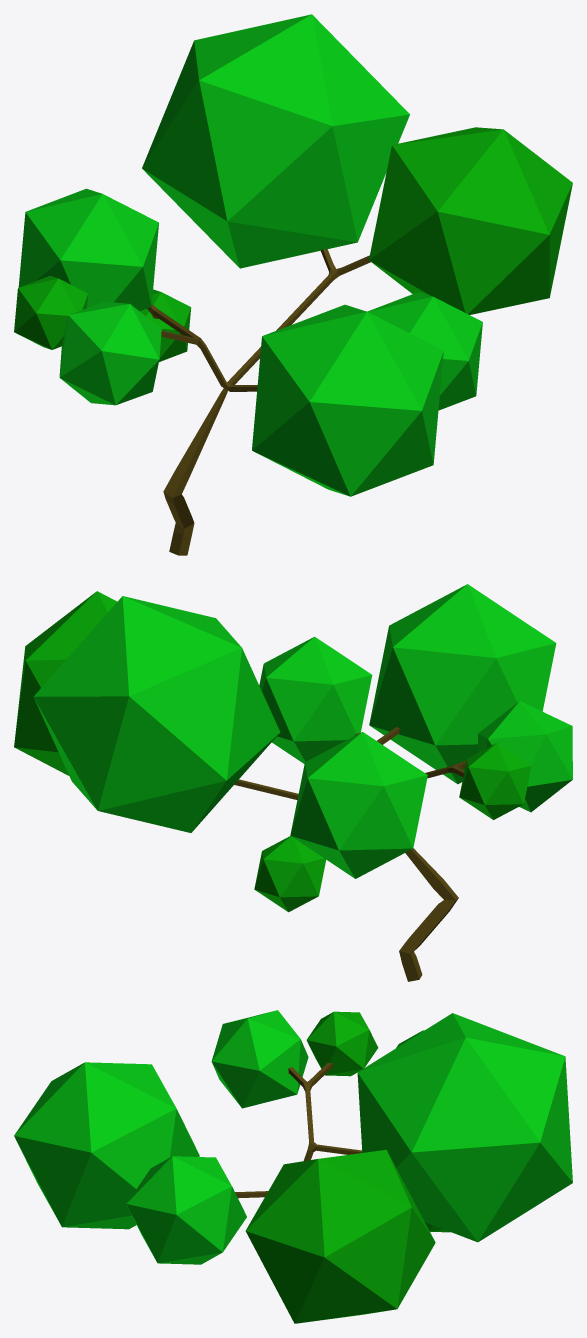
Rendered from tree_3.fbx.
The picture shows the model from 3 angles, top to bottom: view 1: azimuth 30°, elevation 25°; view 2: azimuth 150°, elevation 25°; view 3: azimuth 270°, elevation 25°; orthographic projection. The views are drawn at different scales.
Visible parts, largest first — view 1: tree 3; view 2: tree 3; view 3: tree 3.
Boxes of the visible parts, x1,y1,x2,y2 form: tree 3: (14,14,572,555); tree 3: (14,584,572,981); tree 3: (14,1010,572,1323).
Bounding box in the file's own units: 2910 × 2133 × 2853.
